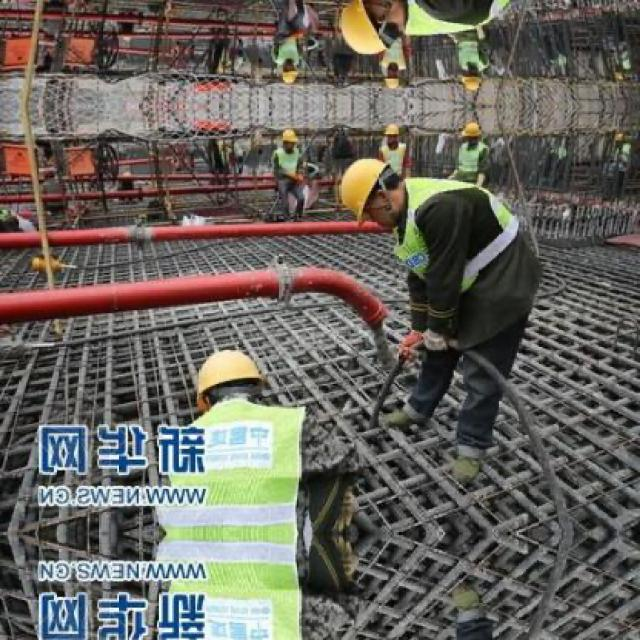helmet: (189, 342, 271, 417), (334, 153, 408, 230), (332, 0, 408, 62), (458, 117, 484, 147), (458, 68, 484, 97), (277, 125, 300, 156), (277, 57, 300, 88), (383, 68, 403, 91), (383, 124, 403, 146)
